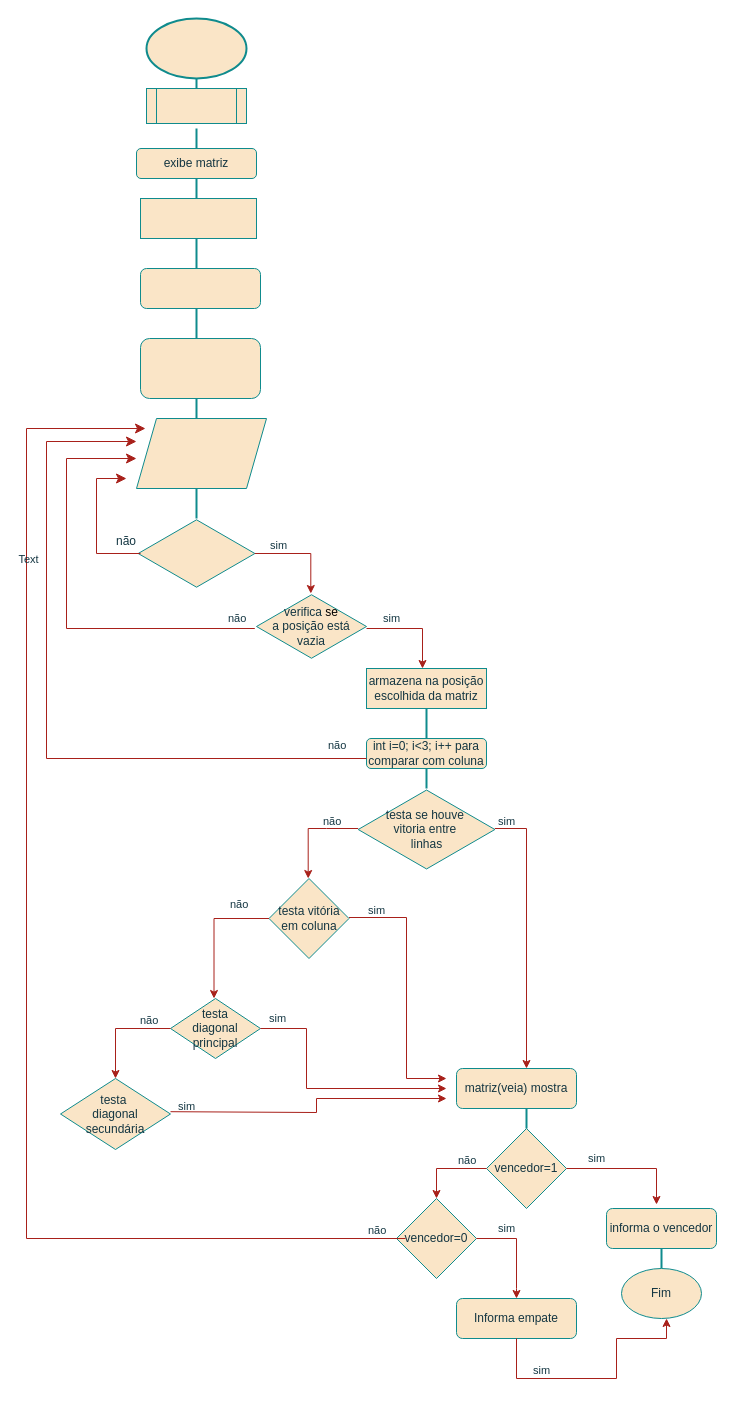
Image size: 734x1404. Some labels were removed from this diagram. The shapes that lost their labels are listed below. From the top down, each one's centre as x and y in pixels, then its label:
[196,48]: start
[196,106]: matriz(veia)
[198,218]: declaração váriaveis e seus respectivos valores
[200,288]: define veia[i][j] = vazio
[200,368]: inicio do while, onde inicia em o e quebra em 9
[201,453]: jogador insere linha e coluna válidas que deseja jogar
[196,553]: verifica posição válida
